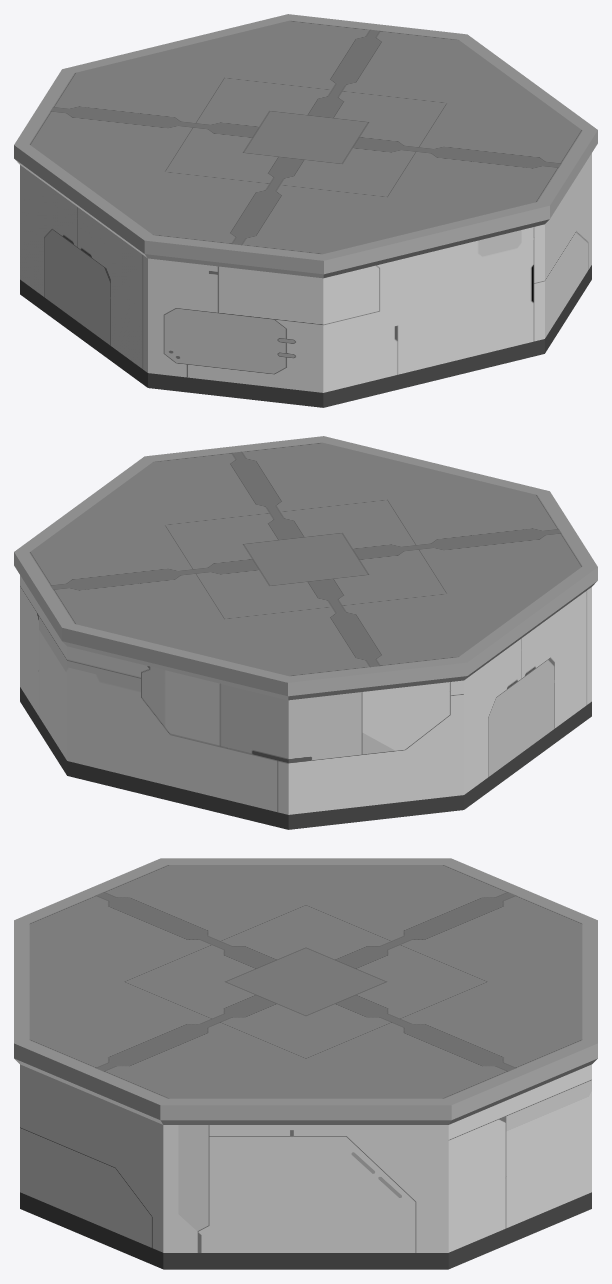
File: SM_Platform_1.fbx
3 views of the same model, one above another, from view 1: azimuth 30°, elevation 25°; view 2: azimuth 150°, elevation 25°; view 3: azimuth 270°, elevation 25° (orthographic). The views are drawn at different scales.
Parts seen in each view (by area): view 1: SM_Platform_A; view 2: SM_Platform_A; view 3: SM_Platform_A.
Boxes of the visible parts, x1=… form: SM_Platform_A: x1=14, y1=14, x2=597, y2=407; SM_Platform_A: x1=14, y1=436, x2=597, y2=829; SM_Platform_A: x1=14, y1=858, x2=597, y2=1269.
Size of the model in its own units: 412 by 130 by 412.
